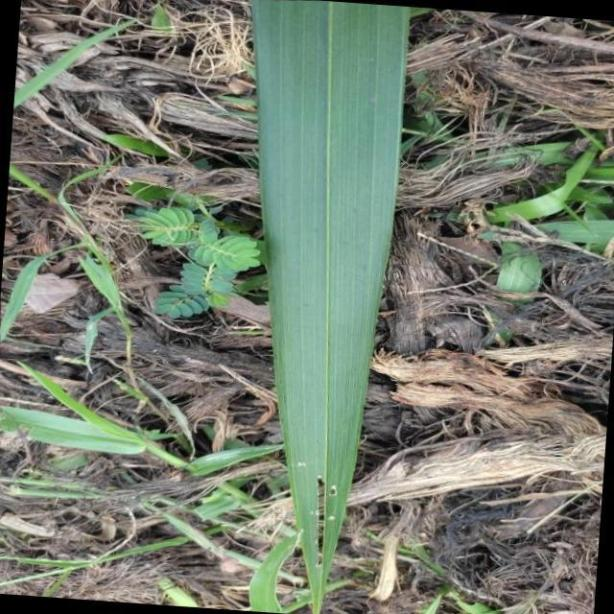Boron: (249, 0, 408, 601)
